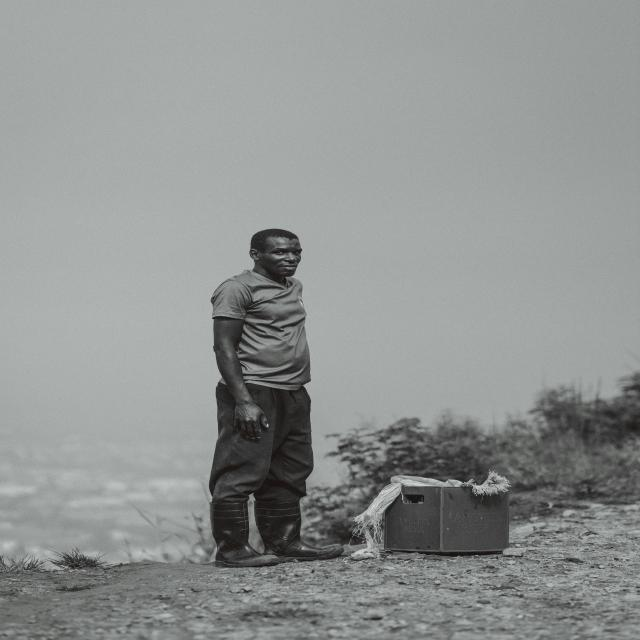stand: (210, 218, 344, 576)
